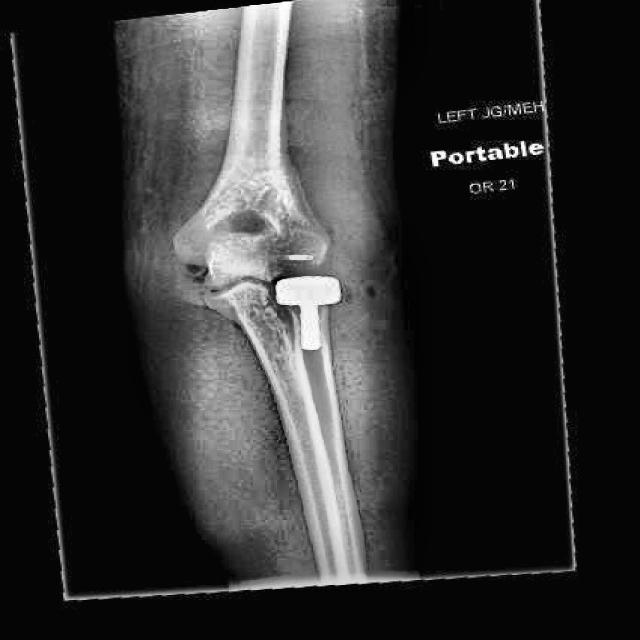elbow positive: (234, 249, 348, 339)
